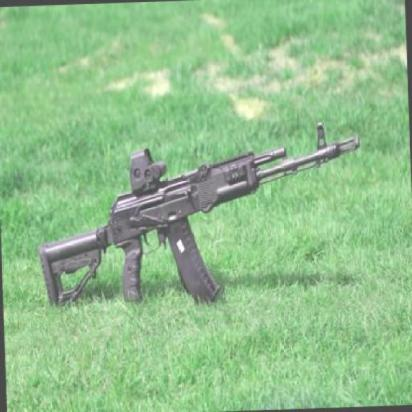Gun: (27, 137, 363, 317)
